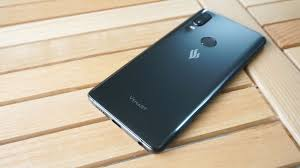vsmart: (78, 8, 270, 161)
